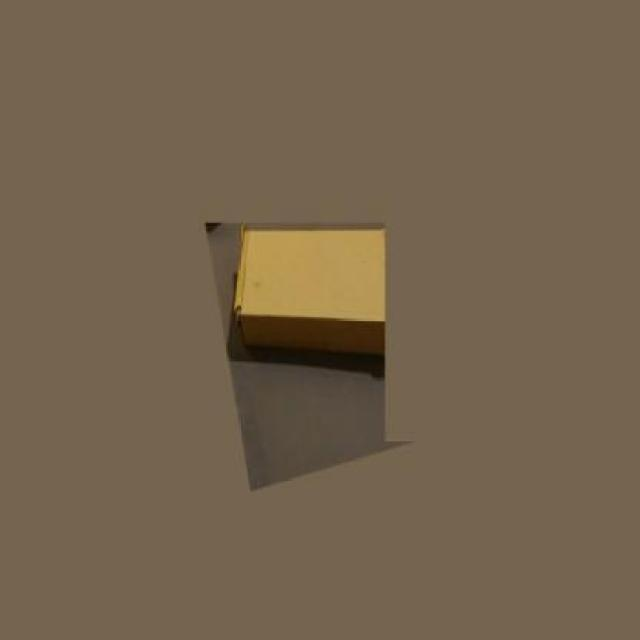cardboxes: (233, 232, 387, 348)
